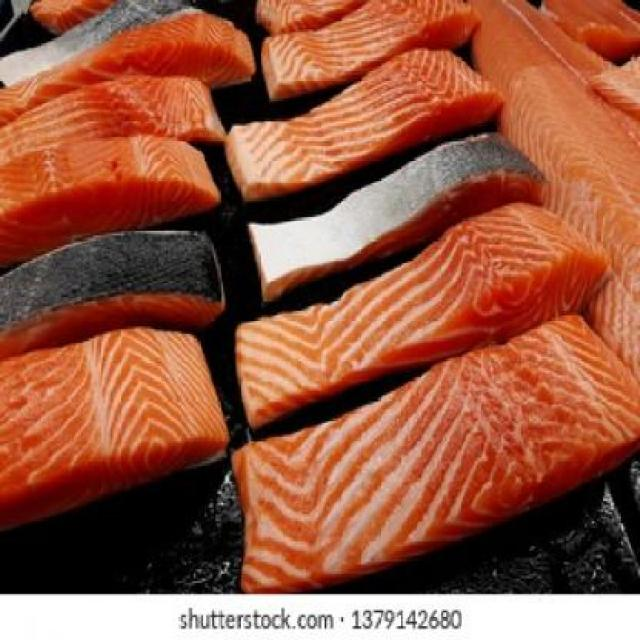salmon: (232, 300, 636, 585), (225, 206, 603, 428), (463, 3, 640, 387), (1, 324, 227, 534), (217, 46, 506, 190), (257, 3, 489, 102), (3, 142, 219, 240), (6, 11, 253, 93)
